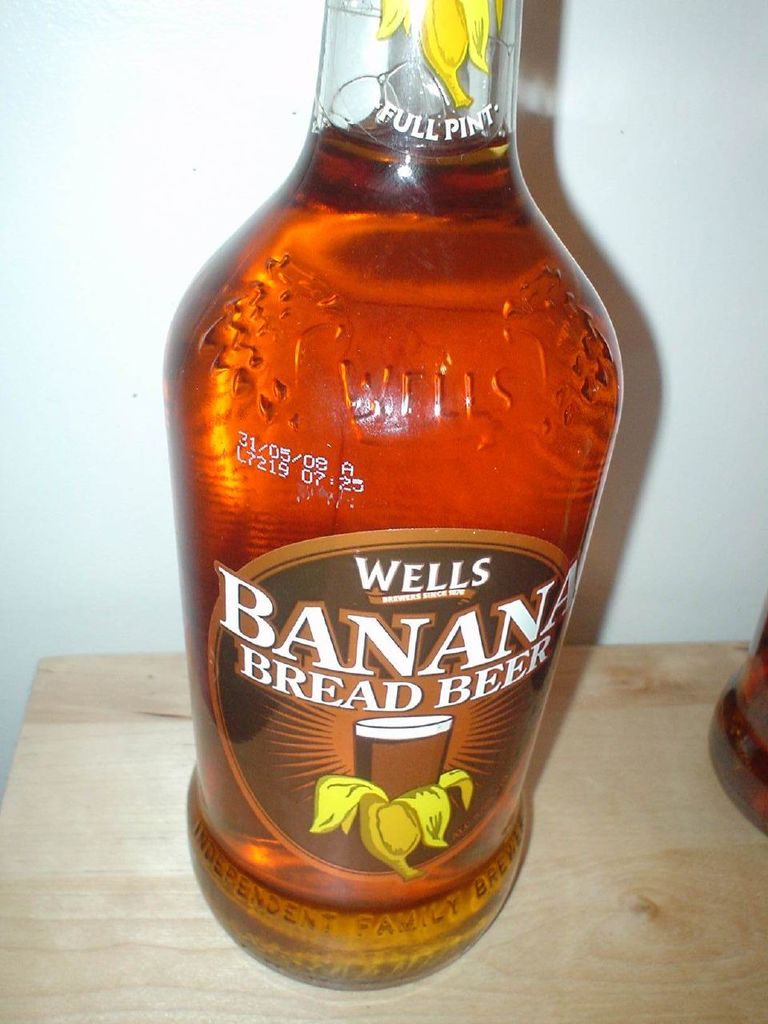Beer: (159, 116, 623, 992)
